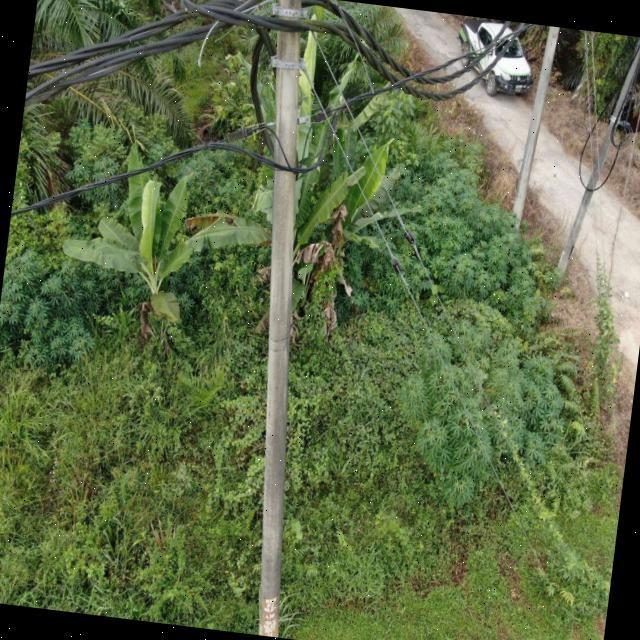critical vegetation: (460, 397, 603, 600)
